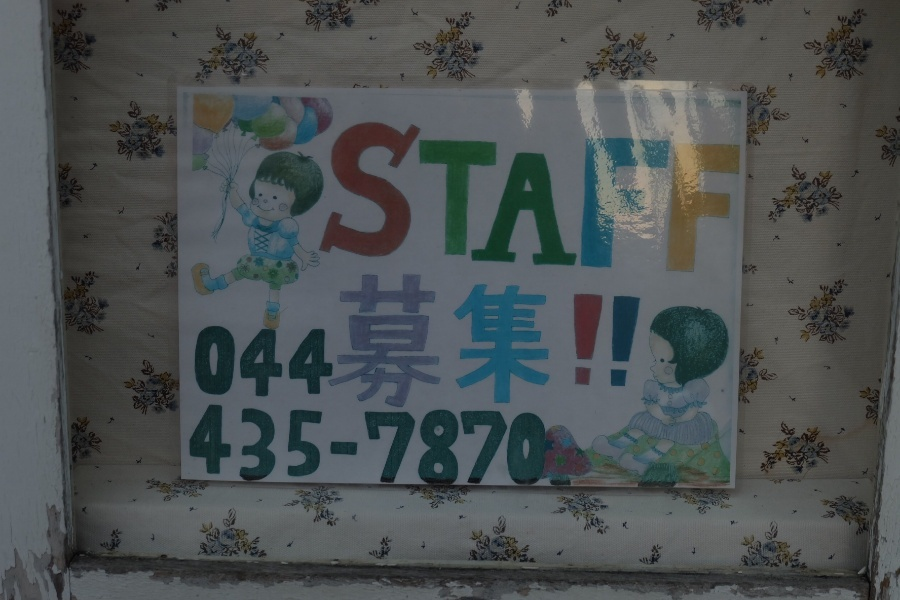text: (353, 120, 368, 278), (369, 120, 384, 278), (385, 120, 400, 278), (401, 120, 416, 278), (417, 120, 432, 278), (433, 120, 448, 278), (449, 120, 464, 278), (465, 120, 480, 278), (481, 120, 496, 278), (497, 120, 512, 278), (513, 120, 528, 278), (529, 120, 544, 278), (545, 120, 560, 278), (561, 120, 576, 278), (577, 120, 592, 278), (593, 120, 608, 278), (609, 120, 624, 278), (625, 120, 640, 278), (641, 120, 656, 278), (657, 120, 672, 278), (673, 120, 688, 278), (689, 120, 704, 278), (705, 120, 720, 278), (721, 120, 736, 278), (338, 120, 352, 278), (337, 268, 352, 412), (353, 268, 368, 412), (369, 268, 384, 412), (385, 268, 400, 412), (401, 268, 416, 412), (417, 268, 432, 412), (433, 268, 448, 412), (449, 268, 464, 412), (465, 268, 480, 412), (481, 268, 496, 412), (497, 268, 512, 412), (513, 268, 528, 412), (529, 268, 544, 412), (545, 268, 560, 412), (561, 268, 576, 412), (577, 268, 592, 412), (593, 268, 608, 412), (609, 268, 624, 412), (625, 268, 640, 412), (193, 404, 208, 487), (209, 404, 224, 487), (225, 404, 240, 487), (241, 404, 256, 487), (257, 404, 272, 487), (273, 404, 288, 487), (289, 404, 304, 487), (305, 404, 320, 487), (321, 404, 336, 487), (337, 404, 352, 487), (353, 404, 368, 487), (369, 404, 384, 487), (385, 404, 400, 487), (401, 404, 416, 487), (417, 404, 432, 487), (433, 404, 448, 487), (449, 404, 464, 487), (465, 404, 480, 487), (481, 404, 496, 487), (497, 404, 512, 487), (513, 404, 528, 487), (529, 404, 544, 487), (193, 321, 208, 403), (209, 321, 224, 403), (225, 321, 240, 403), (241, 321, 256, 403), (257, 321, 272, 403), (273, 321, 288, 403), (289, 321, 304, 403), (305, 321, 320, 403), (321, 321, 336, 403), (737, 120, 743, 278), (330, 268, 336, 412), (641, 268, 647, 412), (186, 404, 192, 487), (545, 404, 551, 487), (337, 321, 338, 403)
